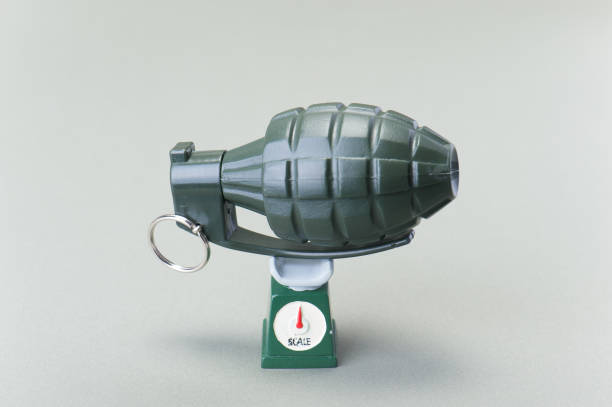e1: (146, 104, 459, 269)
